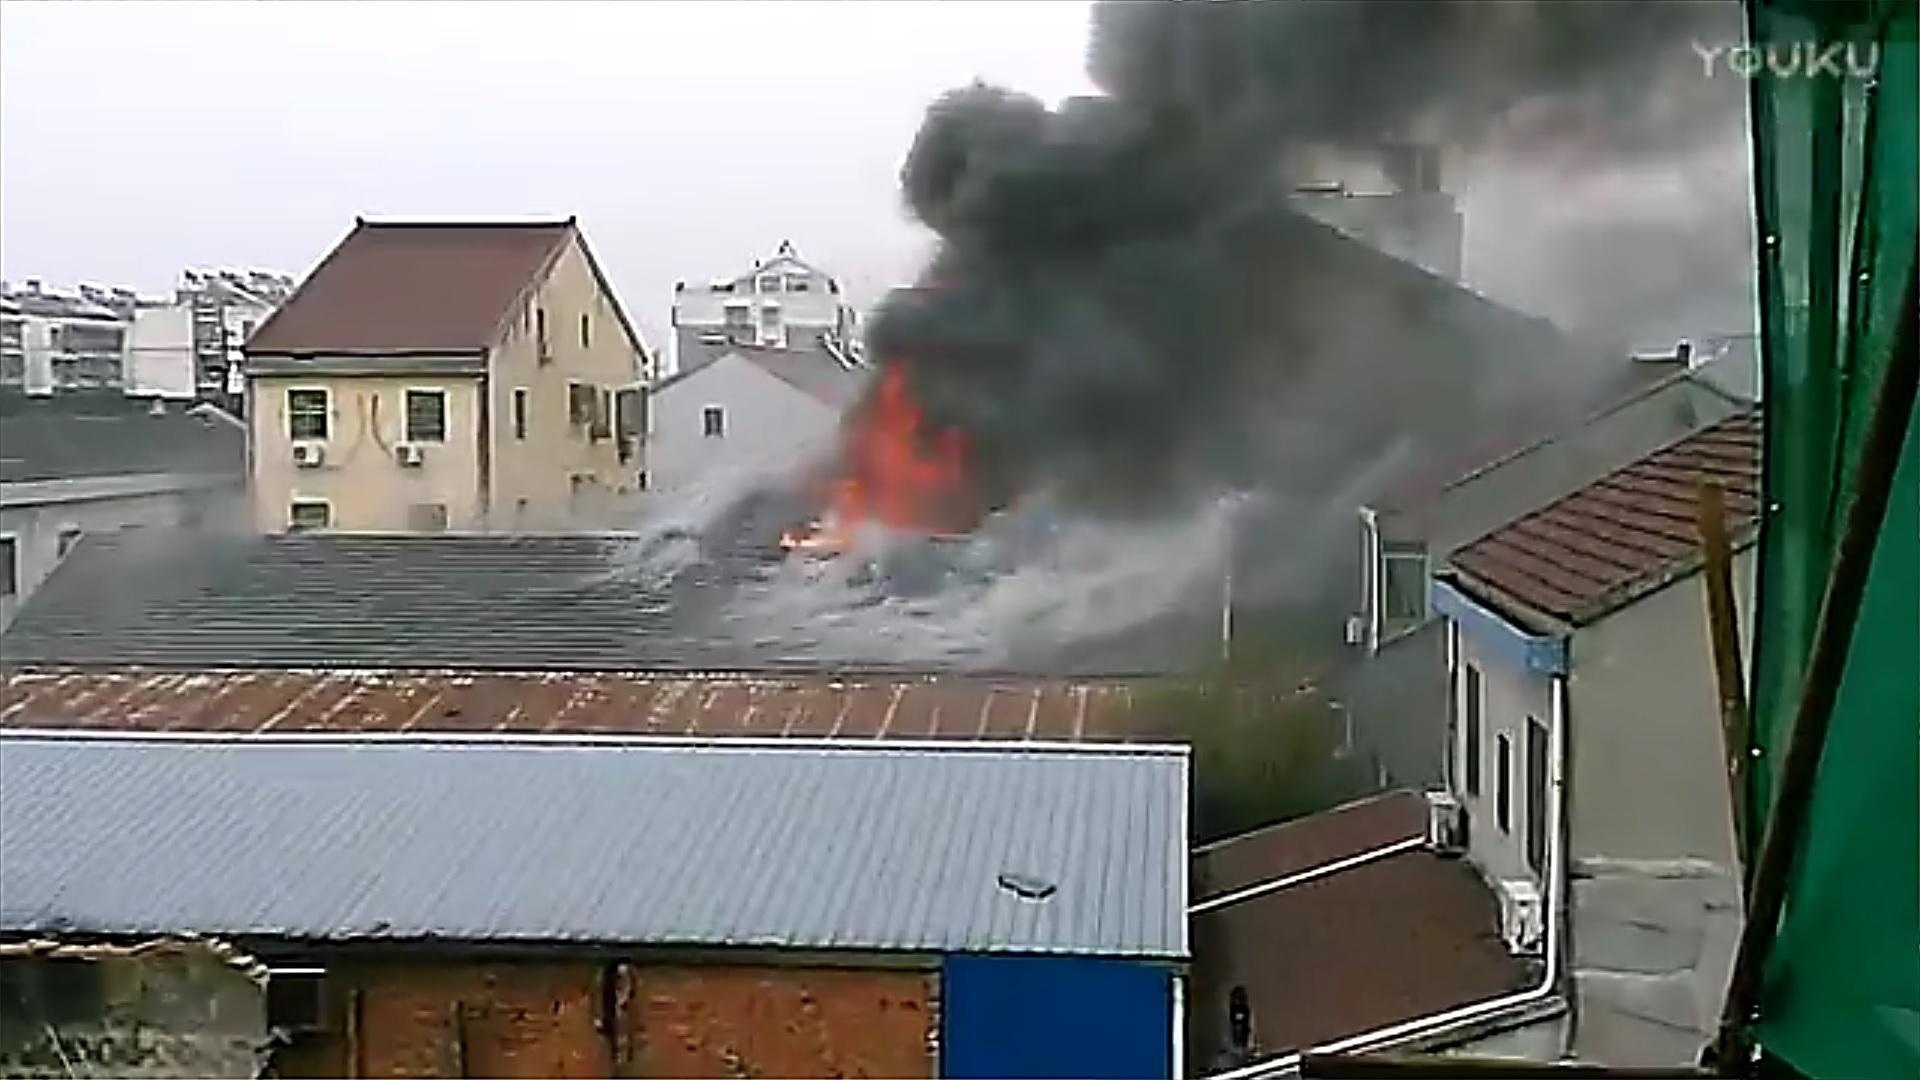fire: (786, 377, 975, 553)
